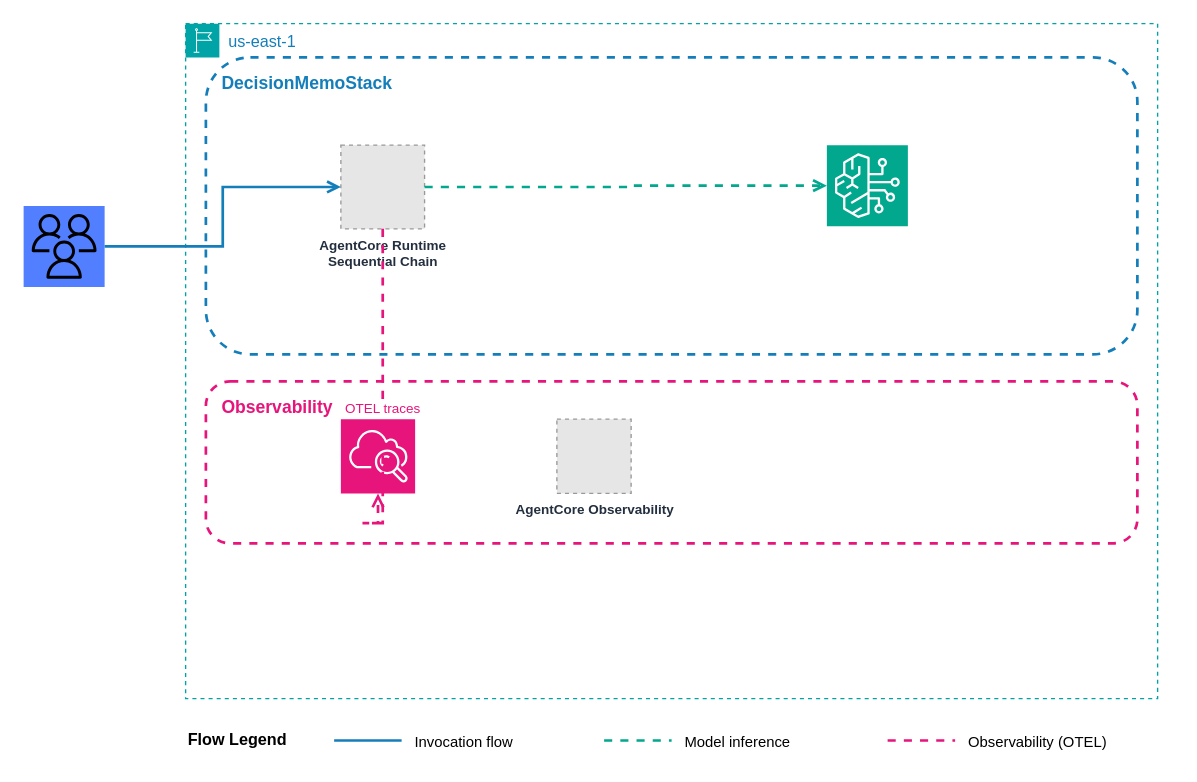
The diagram is 1197 pixels wide and 782 high, and some of its shapes have lost their labels. Grey dashed boxes stand in for pictures. The shapes that lost their labels are listed below. From the top down, each one's centre as x and y in pixels, then its label:
At point 867,185: "Amazon Bedrock".
At point 63,245: "User".
At point 377,455: "Amazon CloudWatch".
